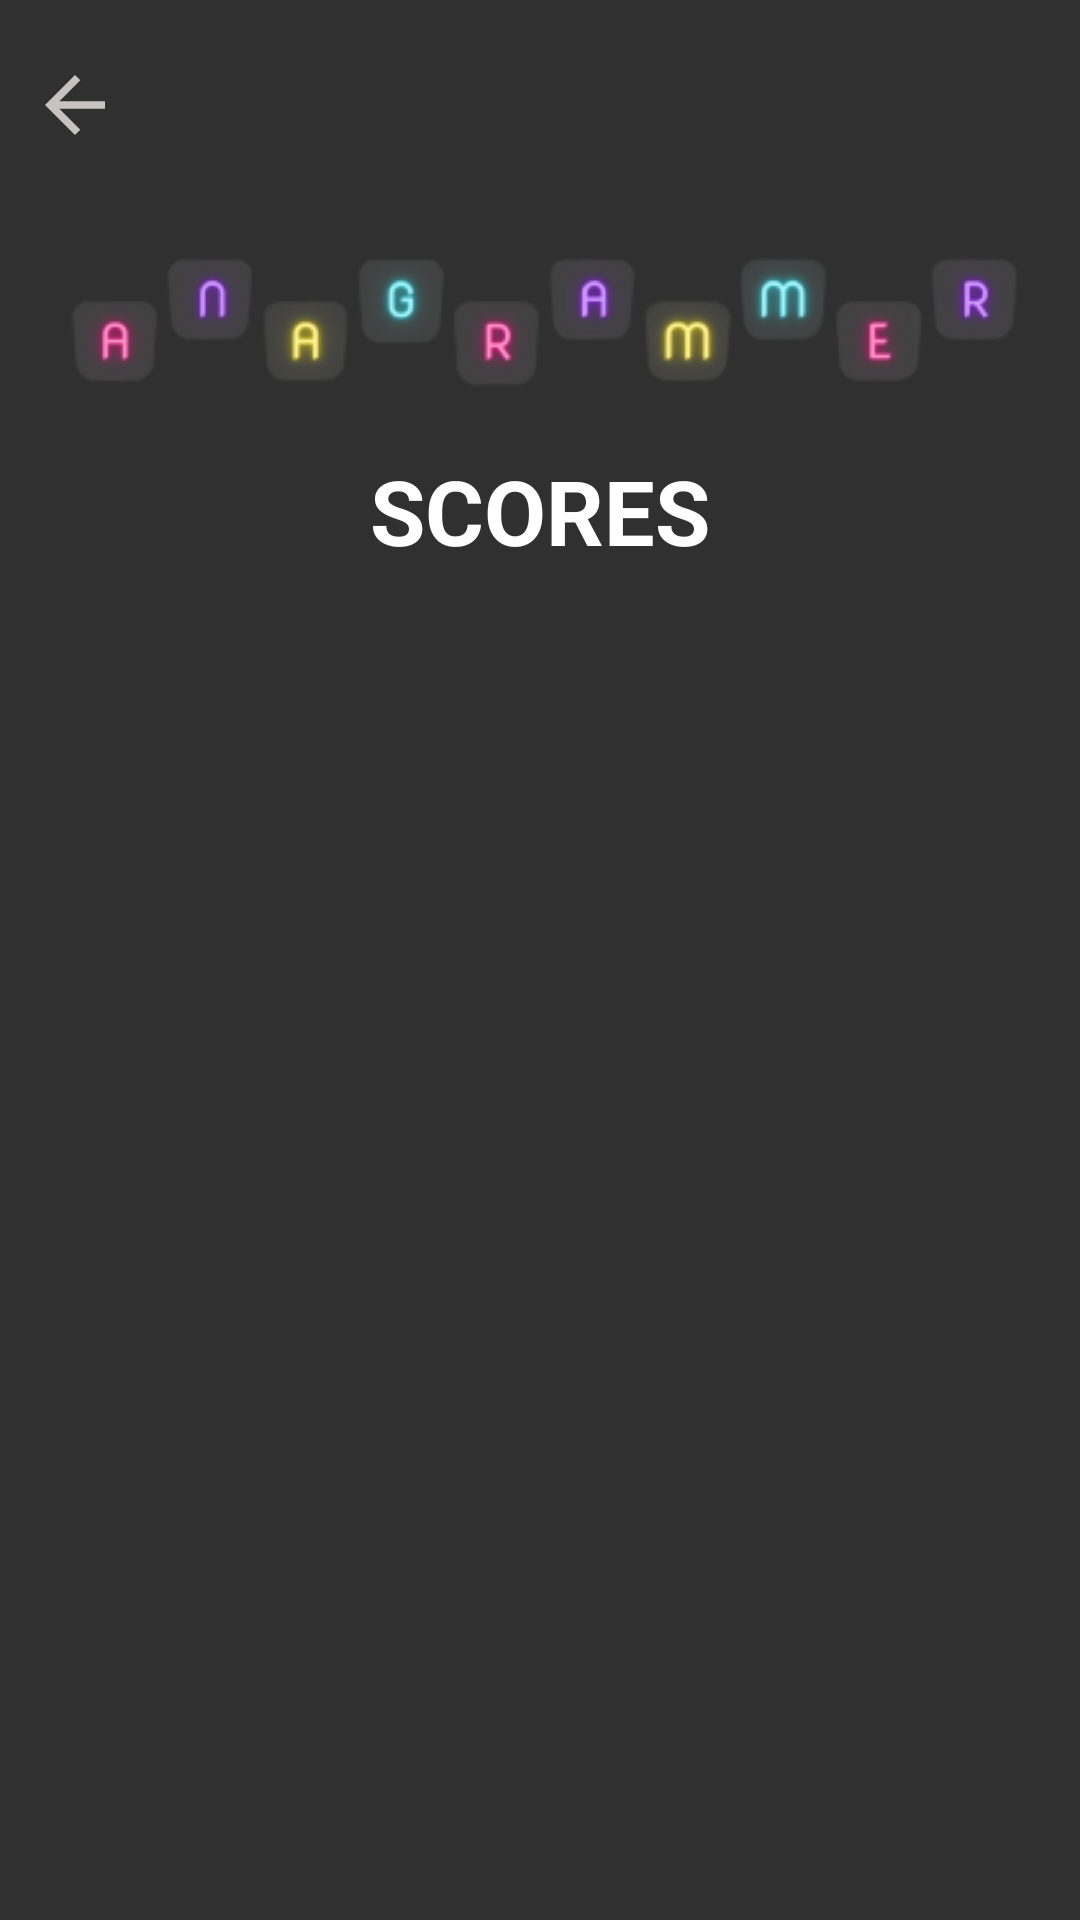

Where to tap for icons on this 1080 x 1920 app screen, as point (x, y):
arrow back: point (75, 105)
